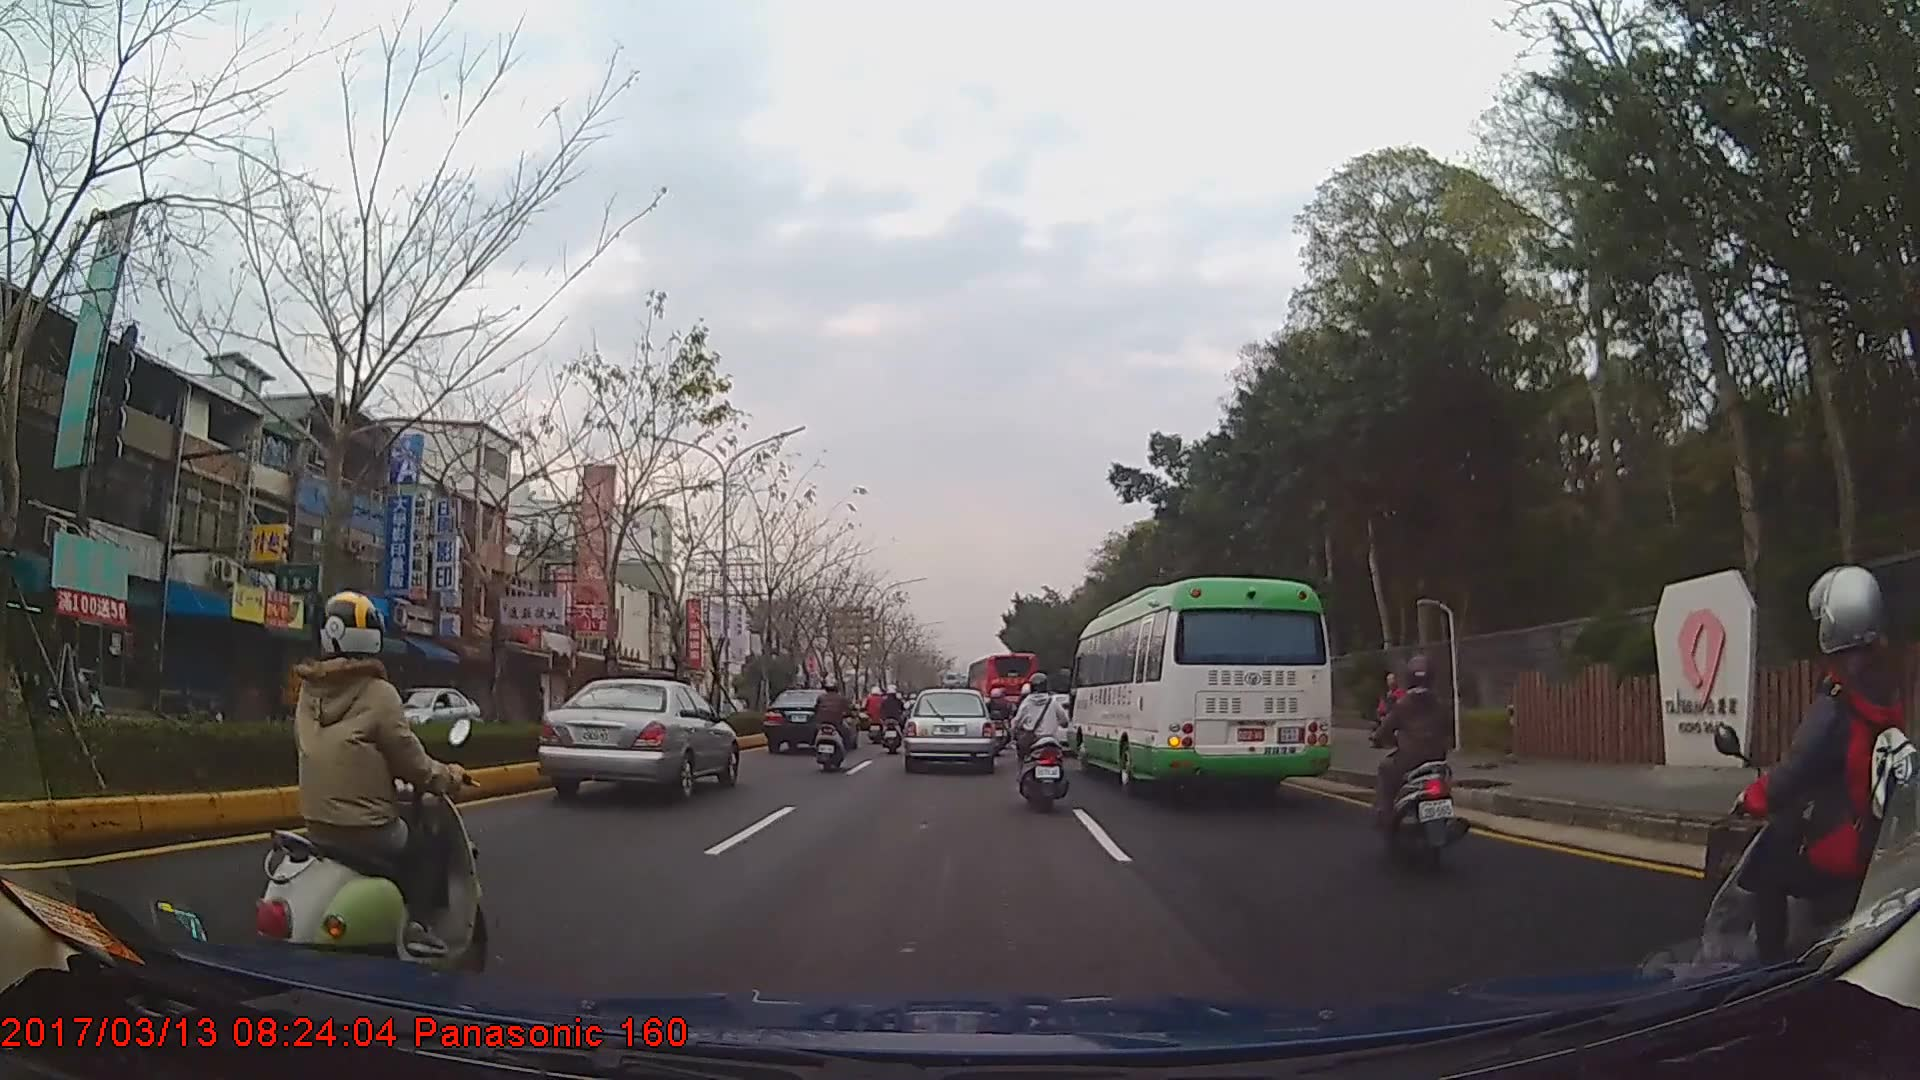pedestrian: (1367, 673, 1411, 751)
rider: (1703, 559, 1920, 1049), (245, 589, 486, 1020), (1367, 652, 1472, 866), (1006, 674, 1066, 813), (813, 677, 853, 772), (878, 684, 904, 753), (983, 688, 1009, 754), (861, 685, 889, 746)
vehicle: (1065, 576, 1333, 796), (537, 675, 737, 803), (901, 688, 997, 772), (359, 677, 483, 739), (764, 685, 860, 753), (967, 650, 1036, 720)
